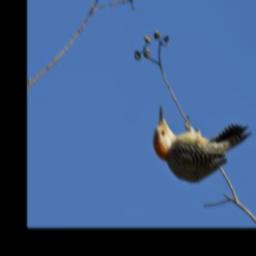Woodpecker: (144, 101, 255, 184)
